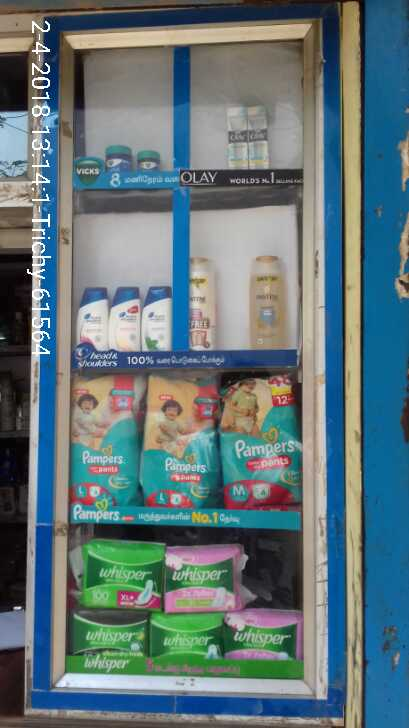vicks: (103, 143, 160, 174)
